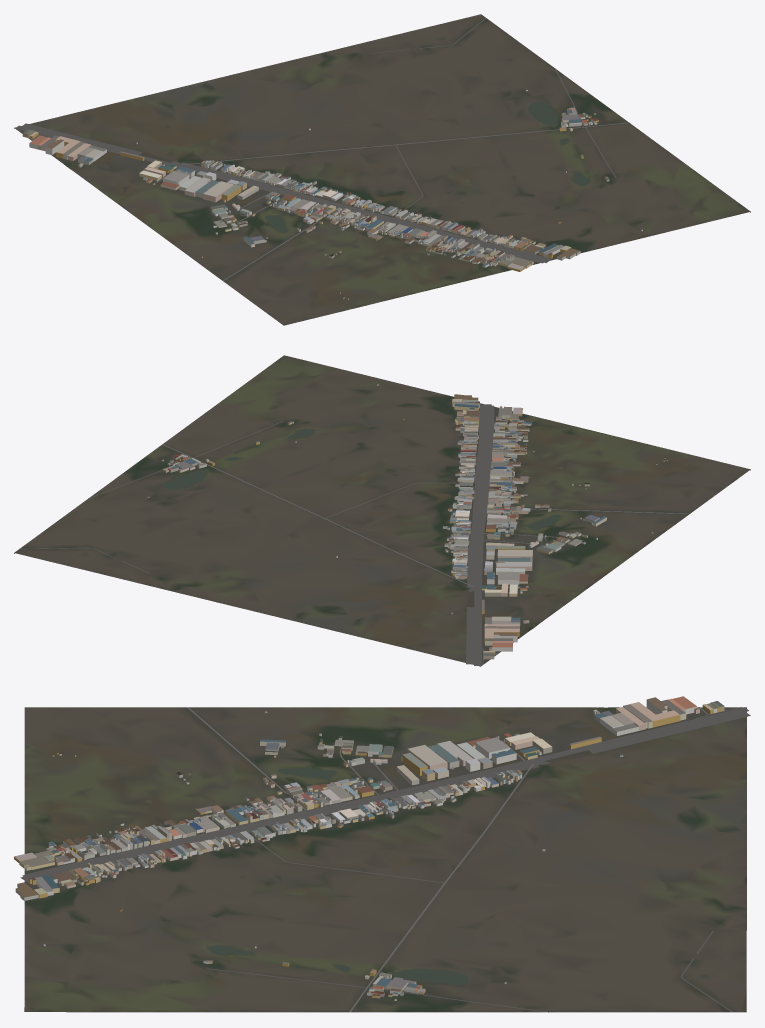
3 renders of one model, top to bottom at view 1: azimuth 30°, elevation 25°; view 2: azimuth 150°, elevation 25°; view 3: azimuth 270°, elevation 25°, orthographic. The views are drawn at different scales.
Parts seen in each view (by area): view 1: ground, buildings, roads, water; view 2: ground, buildings, roads, water; view 3: ground, buildings, roads, water.
Part boxes in pixels (box(x1,y1,x2,y2)): ground: box(14, 14, 750, 325); buildings: box(22, 89, 642, 299); roads: box(15, 18, 629, 280); water: box(68, 38, 590, 232); ground: box(14, 355, 750, 666); buildings: box(147, 384, 667, 659); roads: box(19, 404, 689, 665); water: box(82, 429, 561, 627); ground: box(24, 707, 746, 1012); buildings: box(14, 696, 724, 1000); roads: box(20, 707, 750, 1012); water: box(208, 707, 706, 985).
Bounding box in the file's own units: 1426 × 21.48 × 1430.
